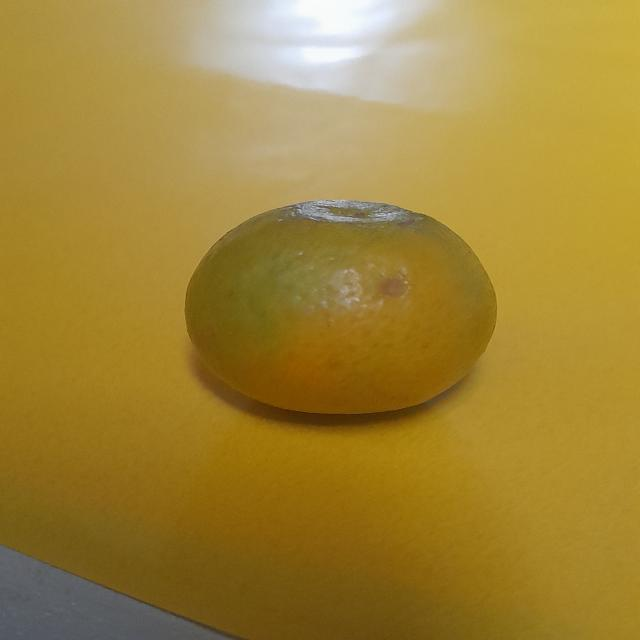greening: (137, 173, 506, 406)
